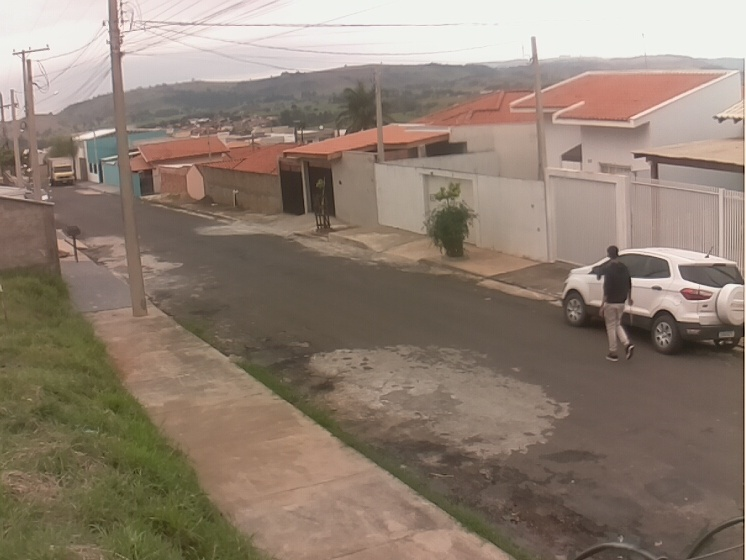person: (597, 243, 637, 364)
